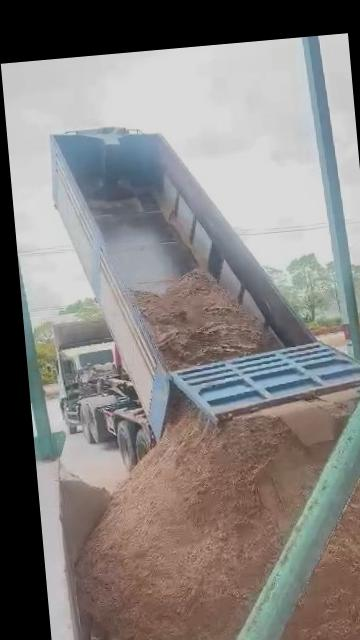sand: (64, 392, 357, 640), (272, 445, 360, 640), (138, 272, 274, 369)
